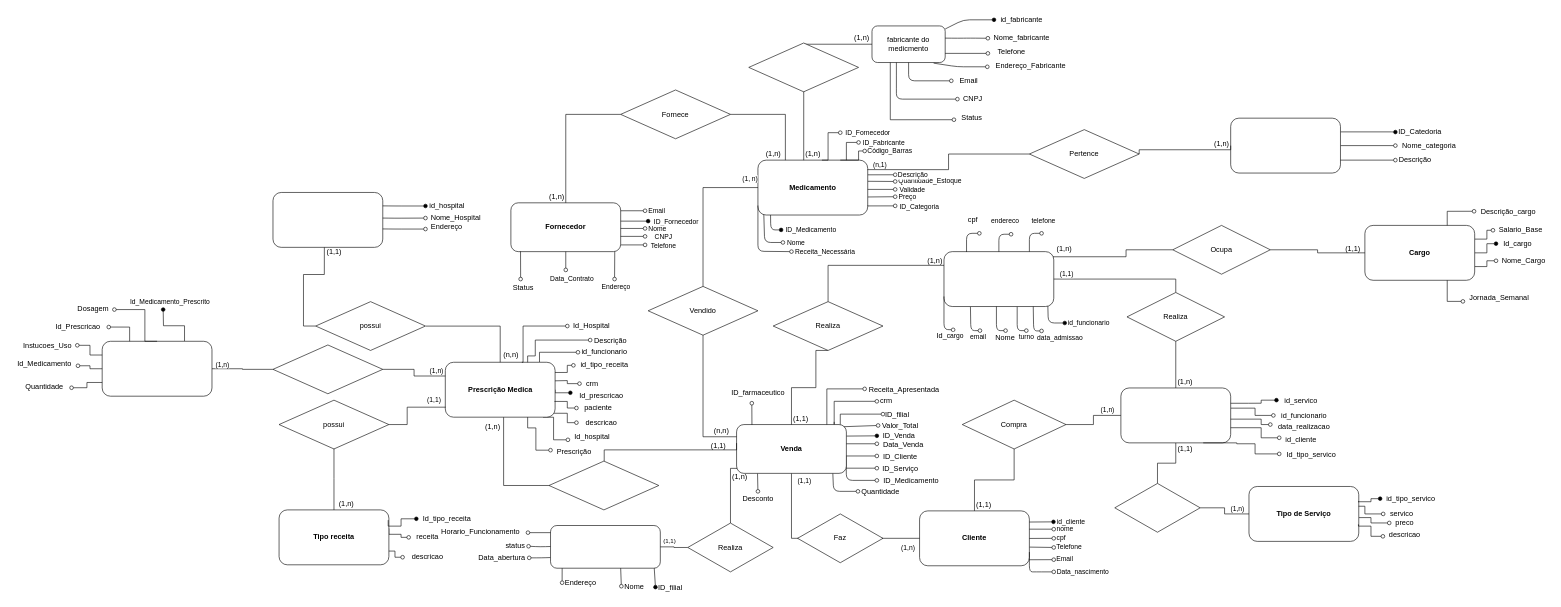
The diagram is 1561 pixels wide and 607 high, and some of its shapes have lost their labels. The shapes that lost their labels are listed below. From the top down, each one's box as (x1, y1, x2, y2) in pixels, then its label:
(748, 42, 859, 92): Fabrica
(1230, 118, 1340, 173): Categoria do Medicamento
(272, 192, 383, 247): Hospital
(943, 251, 1054, 307): Funcionario
(102, 341, 212, 396): Medicamentos_Prescritos
(272, 344, 383, 394): Presceve
(1120, 387, 1231, 443): Serviço
(548, 460, 659, 510): efetua
(1114, 483, 1200, 532): Consulta
(550, 525, 660, 568): Filial
